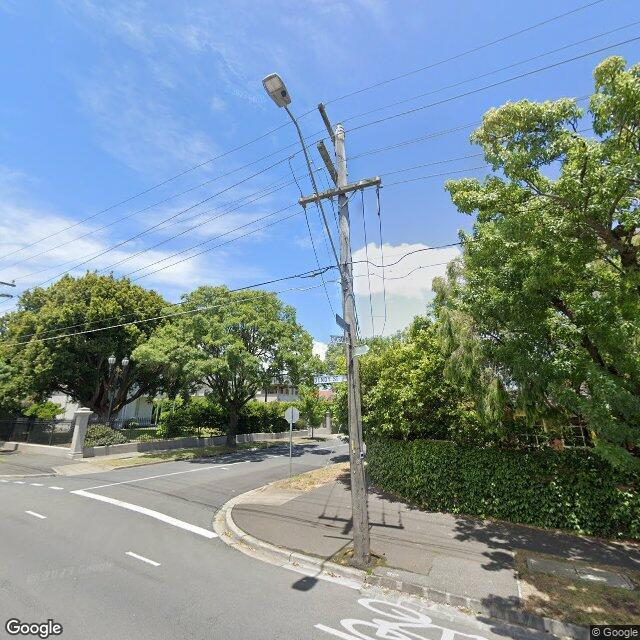HV-transmission: (318, 101, 345, 146)
crossarm: (296, 176, 384, 210), (317, 141, 338, 185), (318, 103, 336, 144), (0, 280, 17, 288), (0, 294, 13, 298)
streetlight: (263, 72, 348, 291)
timber-pole: (335, 136, 370, 564)
